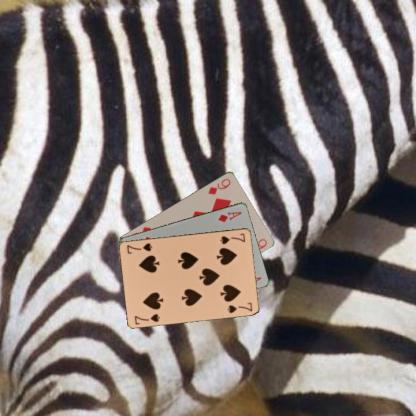7s: (132, 311, 162, 325), (218, 231, 247, 245)
9d: (206, 176, 232, 196)
Ad: (216, 209, 243, 223)
